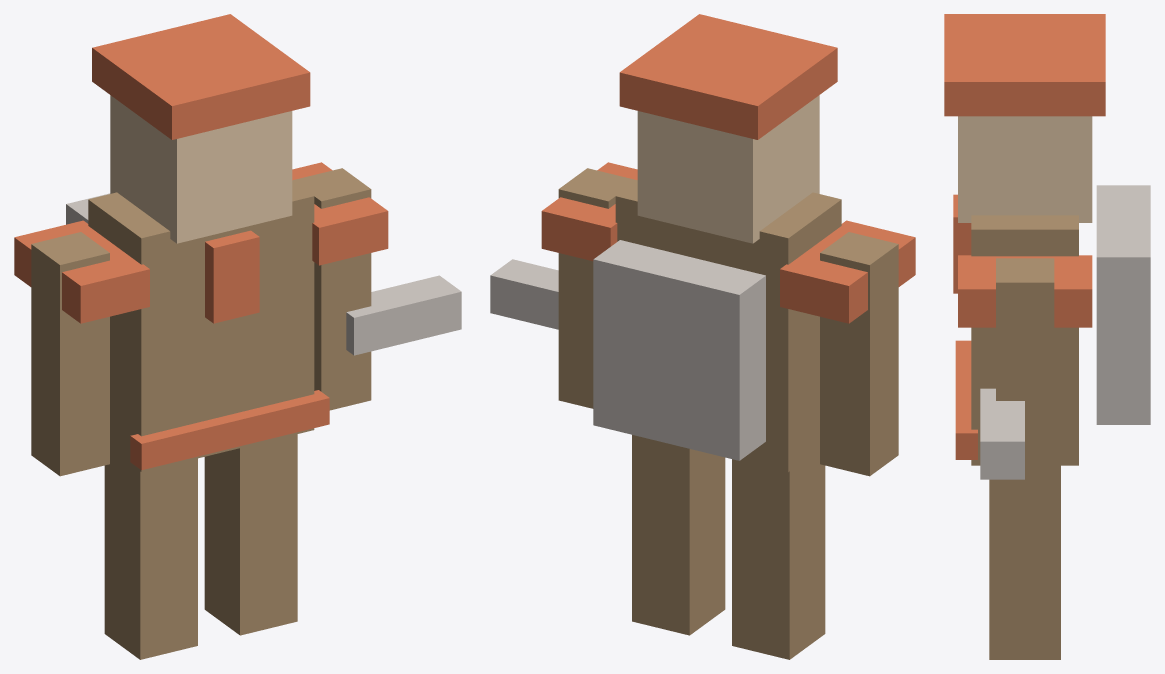
Rendered from 07_keir_ashvein_tamer_from_ember.glb.
The picture shows the model from 3 angles, left to right: view 1: azimuth 30°, elevation 25°; view 2: azimuth 150°, elevation 25°; view 3: azimuth 270°, elevation 25°; orthographic projection.
Parts seen in each view (by area): view 1: Keir Ashvein, Tamer from Ember; view 2: Keir Ashvein, Tamer from Ember; view 3: Keir Ashvein, Tamer from Ember.
Boxes of the visible parts, x1,y1,x2,y2 form: Keir Ashvein, Tamer from Ember: (14, 14, 461, 659); Keir Ashvein, Tamer from Ember: (490, 14, 915, 659); Keir Ashvein, Tamer from Ember: (944, 14, 1150, 659).
Size of the model in its own units: 1.03 by 1.42 by 0.464.
